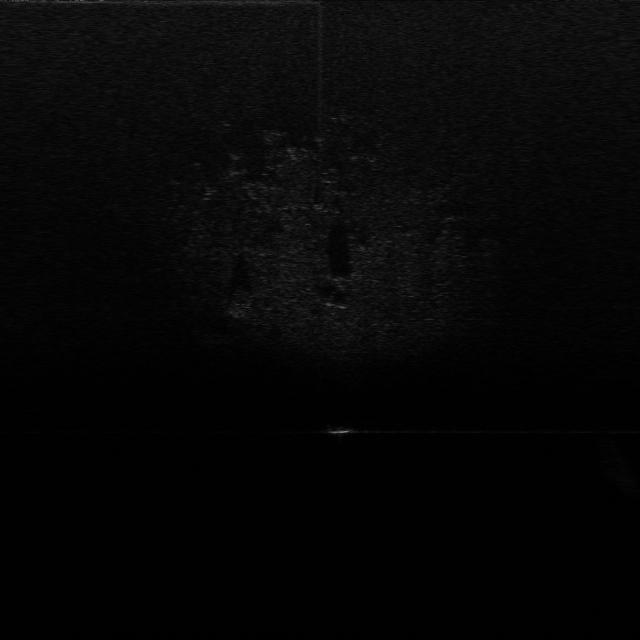square cage: (323, 419, 368, 439)
